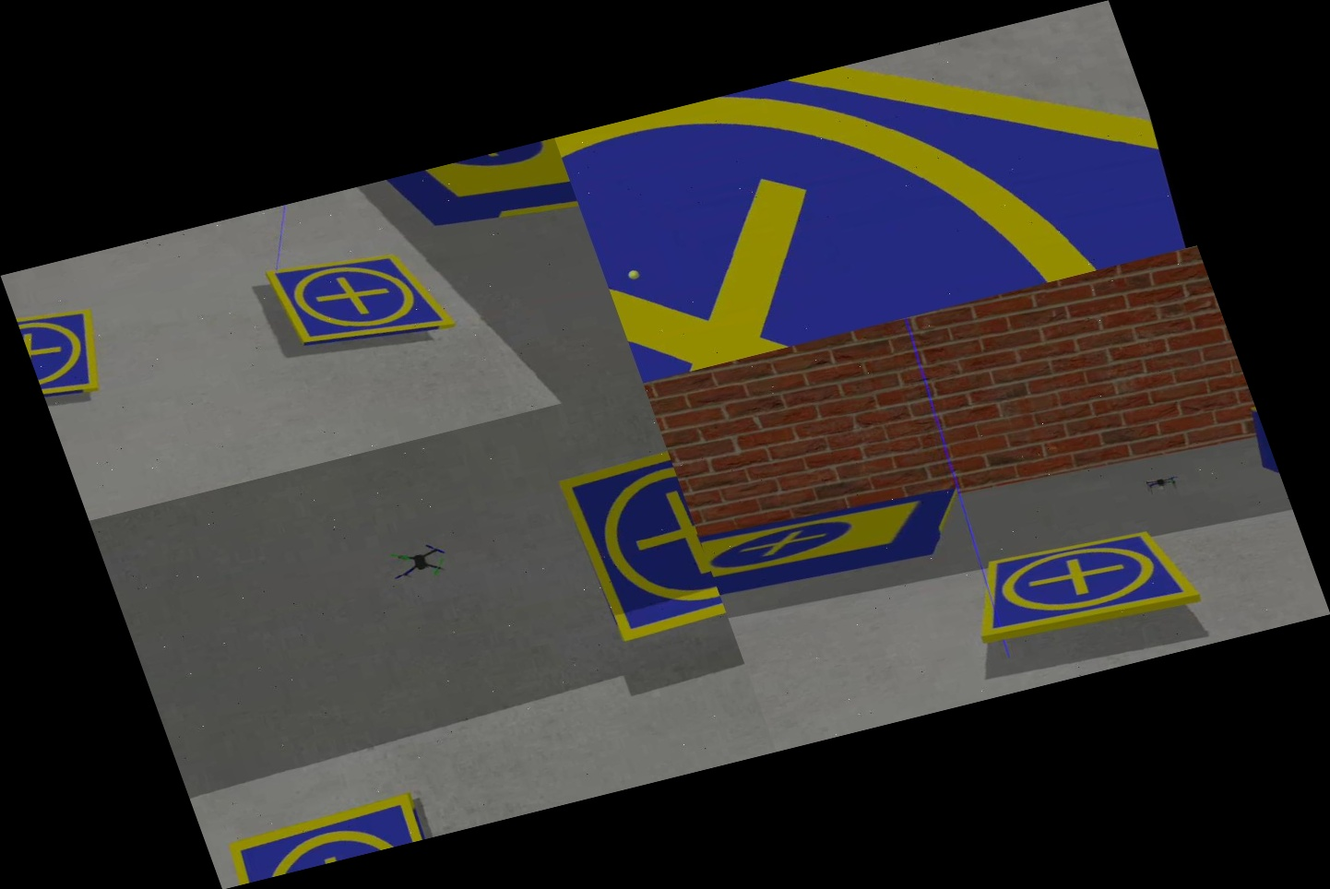large_base: (694, 460, 978, 608), (334, 137, 579, 261)
small_base: (554, 0, 1196, 383), (540, 438, 733, 662), (956, 511, 1211, 657), (257, 229, 465, 369), (213, 784, 435, 886), (13, 291, 118, 405)
